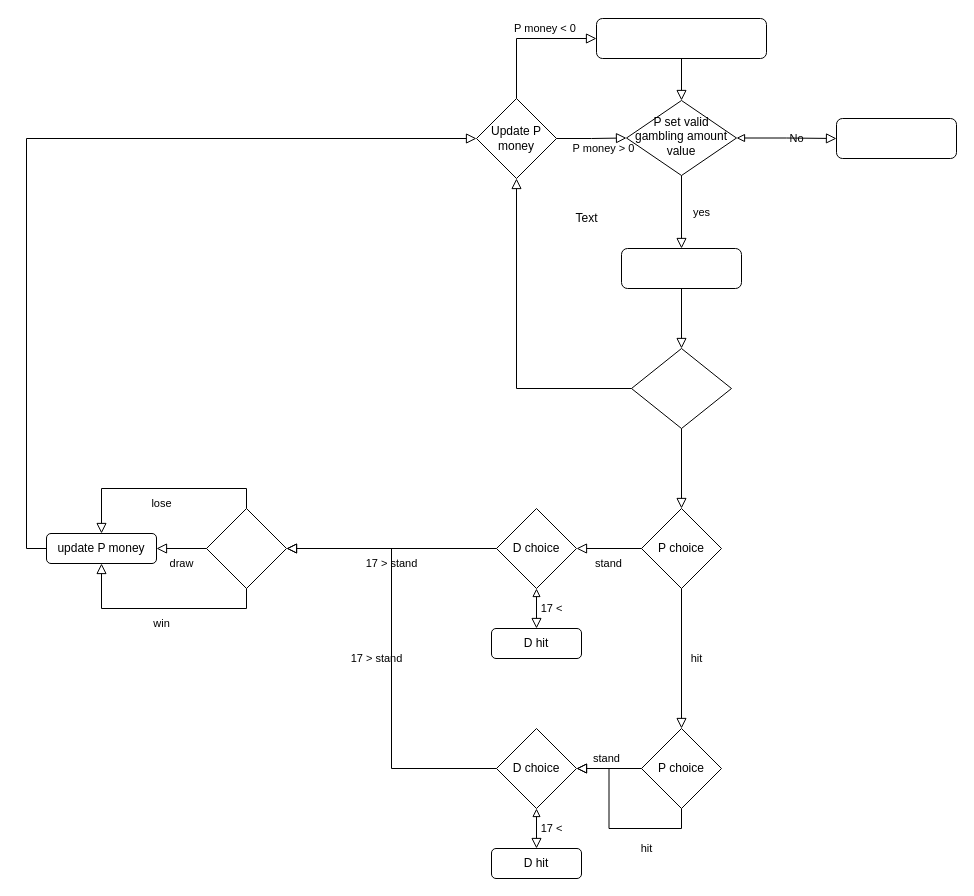
Image size: 974x896. Some labels were removed from this diagram. Each missing label, with the centre of its shape:
"deal cards to P and D - show P both cards - show D one card" belongs at point (681, 268).
"Game starts - const playerMoney = 100 - create deck and shullfe it" belongs at point (681, 38).
"P cards = 21" belongs at point (681, 388).
"reveal D cards, define winner" belongs at point (246, 548).
"try again" belongs at point (896, 138).
